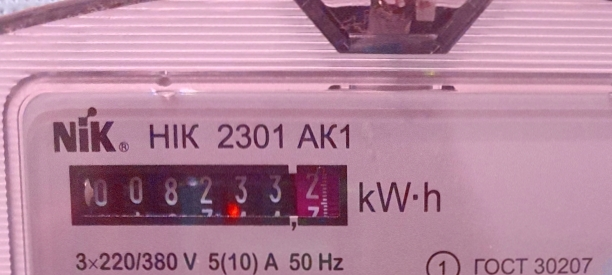0: (90, 176, 110, 208), (126, 174, 145, 205)
2: (195, 174, 215, 206), (303, 170, 321, 201)
3: (232, 173, 249, 204), (267, 172, 284, 203)
8: (162, 175, 179, 206)
screen: (58, 153, 359, 236)
